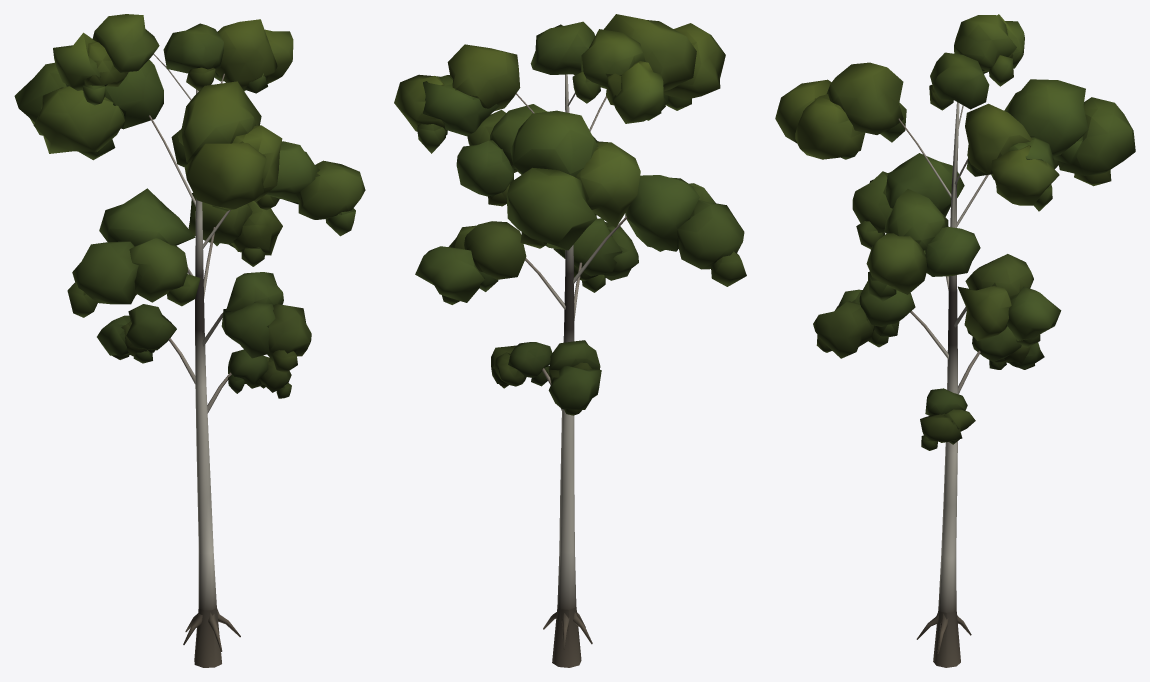
File: birch_c.glb
The picture shows the model from 3 angles, left to right: view 1: azimuth 30°, elevation 25°; view 2: azimuth 150°, elevation 25°; view 3: azimuth 270°, elevation 25°; orthographic projection. The views are drawn at different scales.
Visible parts, largest first — view 1: LOD0; view 2: LOD0; view 3: LOD0.
Part boxes in pixels (left/top/right/bottom): LOD0: left=14, top=14, right=365, bottom=667; LOD0: left=394, top=14, right=746, bottom=667; LOD0: left=775, top=14, right=1135, bottom=667.
Size of what is drawn, in the model's own units: 7.26 by 15.94 by 8.46.
